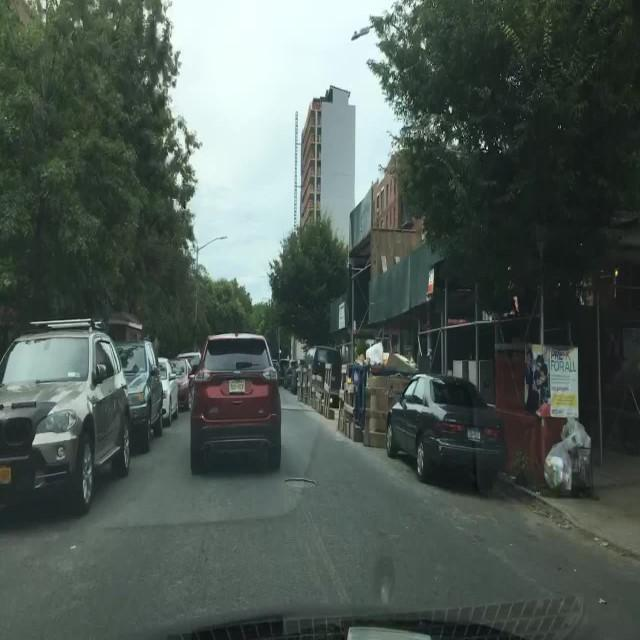normal: (0, 292, 303, 490)
